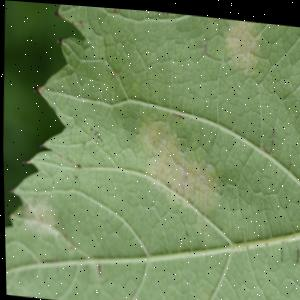Folha: (0, 0, 300, 300)
Fungo: (133, 115, 222, 213), (134, 115, 188, 196), (224, 16, 264, 75), (261, 124, 276, 153), (89, 127, 104, 146), (268, 124, 276, 152), (204, 38, 213, 56), (294, 244, 300, 260), (172, 110, 185, 117), (270, 125, 275, 143), (90, 127, 98, 136), (58, 37, 64, 47), (97, 134, 103, 143), (33, 86, 39, 94), (76, 162, 82, 169), (280, 246, 283, 260), (162, 10, 169, 16), (114, 7, 120, 13), (184, 227, 188, 236), (22, 159, 28, 164)
